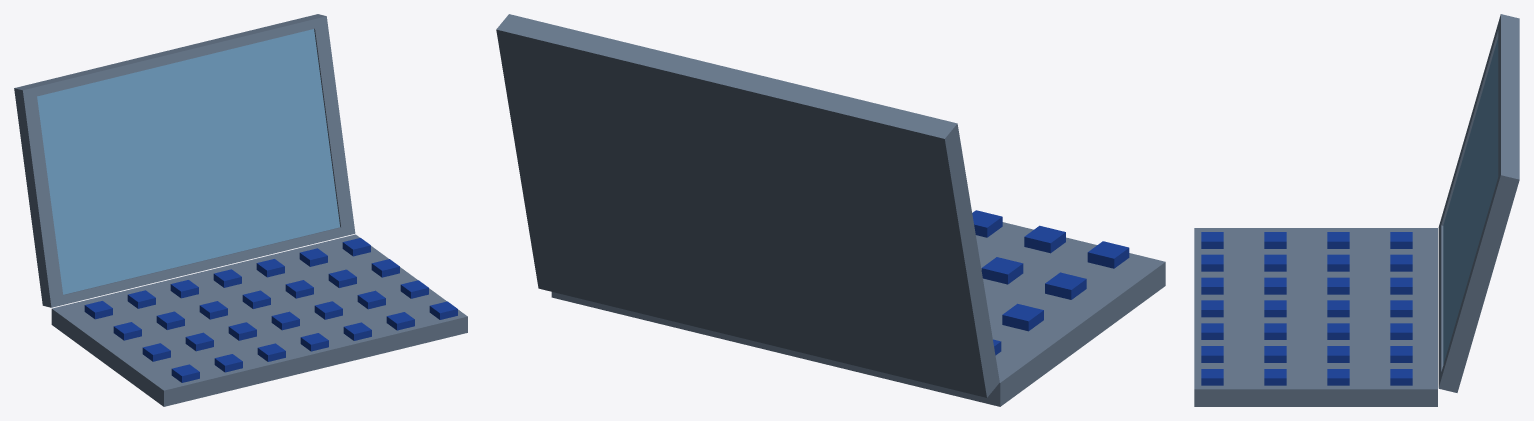
The picture shows the model from 3 angles, left to right: view 1: azimuth 30°, elevation 25°; view 2: azimuth 150°, elevation 25°; view 3: azimuth 270°, elevation 25°; orthographic projection. The views are drawn at different scales.
Parts seen in each view (by area): view 1: 5 pk; view 2: 5 pk; view 3: 5 pk.
Part boxes in pixels (x1,y1,x2,y2): 5 pk: (14, 14, 467, 406); 5 pk: (496, 14, 1165, 406); 5 pk: (1194, 14, 1519, 406).
Bounding box in the file's own units: 21.66 × 14.53 × 18.49.
